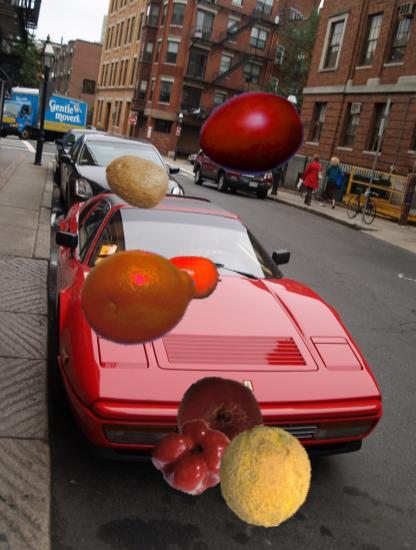Cantaloupe: (214, 424, 318, 528)
Kaki: (158, 245, 223, 310)
Kiwi: (104, 148, 171, 215)
Nectarine: (175, 376, 264, 465)
Pepper: (150, 414, 236, 500)
Tamarillo: (199, 72, 318, 191)
Tangelo: (81, 240, 197, 356)
